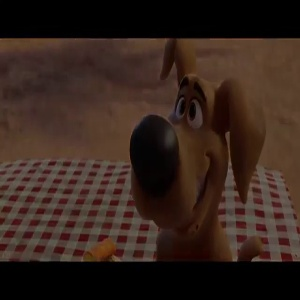Scooby: (124, 36, 265, 232)
